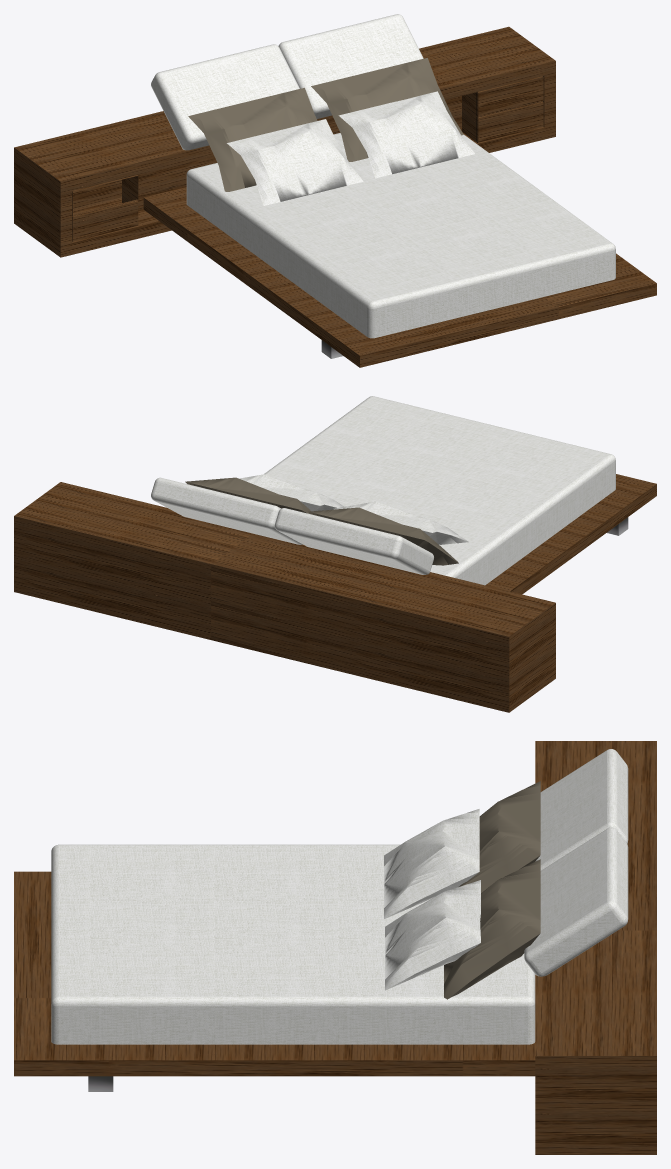
File: letto2.glb
3 views of the same model, one above another, from view 1: azimuth 30°, elevation 25°; view 2: azimuth 150°, elevation 25°; view 3: azimuth 270°, elevation 25° (orthographic). The views are drawn at different scales.
Parts seen in each view (by area): view 1: object 5, pillow#2 (×2), pillow#1 (×2); view 2: object 5, pillow#1 (×2), pillow#2 (×2); view 3: object 5, pillow#2 (×2), pillow#1 (×2).
Boxes of the visible parts, bbox=[...] form: object 5: bbox=[14, 14, 656, 367]; pillow#2 (×2): bbox=[227, 91, 474, 205]; pillow#1 (×2): bbox=[188, 58, 463, 191]; object 5: bbox=[14, 396, 656, 712]; pillow#1 (×2): bbox=[185, 477, 458, 565]; pillow#2 (×2): bbox=[239, 474, 468, 544]; object 5: bbox=[14, 741, 656, 1154]; pillow#2 (×2): bbox=[384, 809, 480, 990]; pillow#1 (×2): bbox=[444, 781, 540, 999].
Size of the model in its own units: 3 by 0.766 by 2.59.
6 materials, 4 textured.
